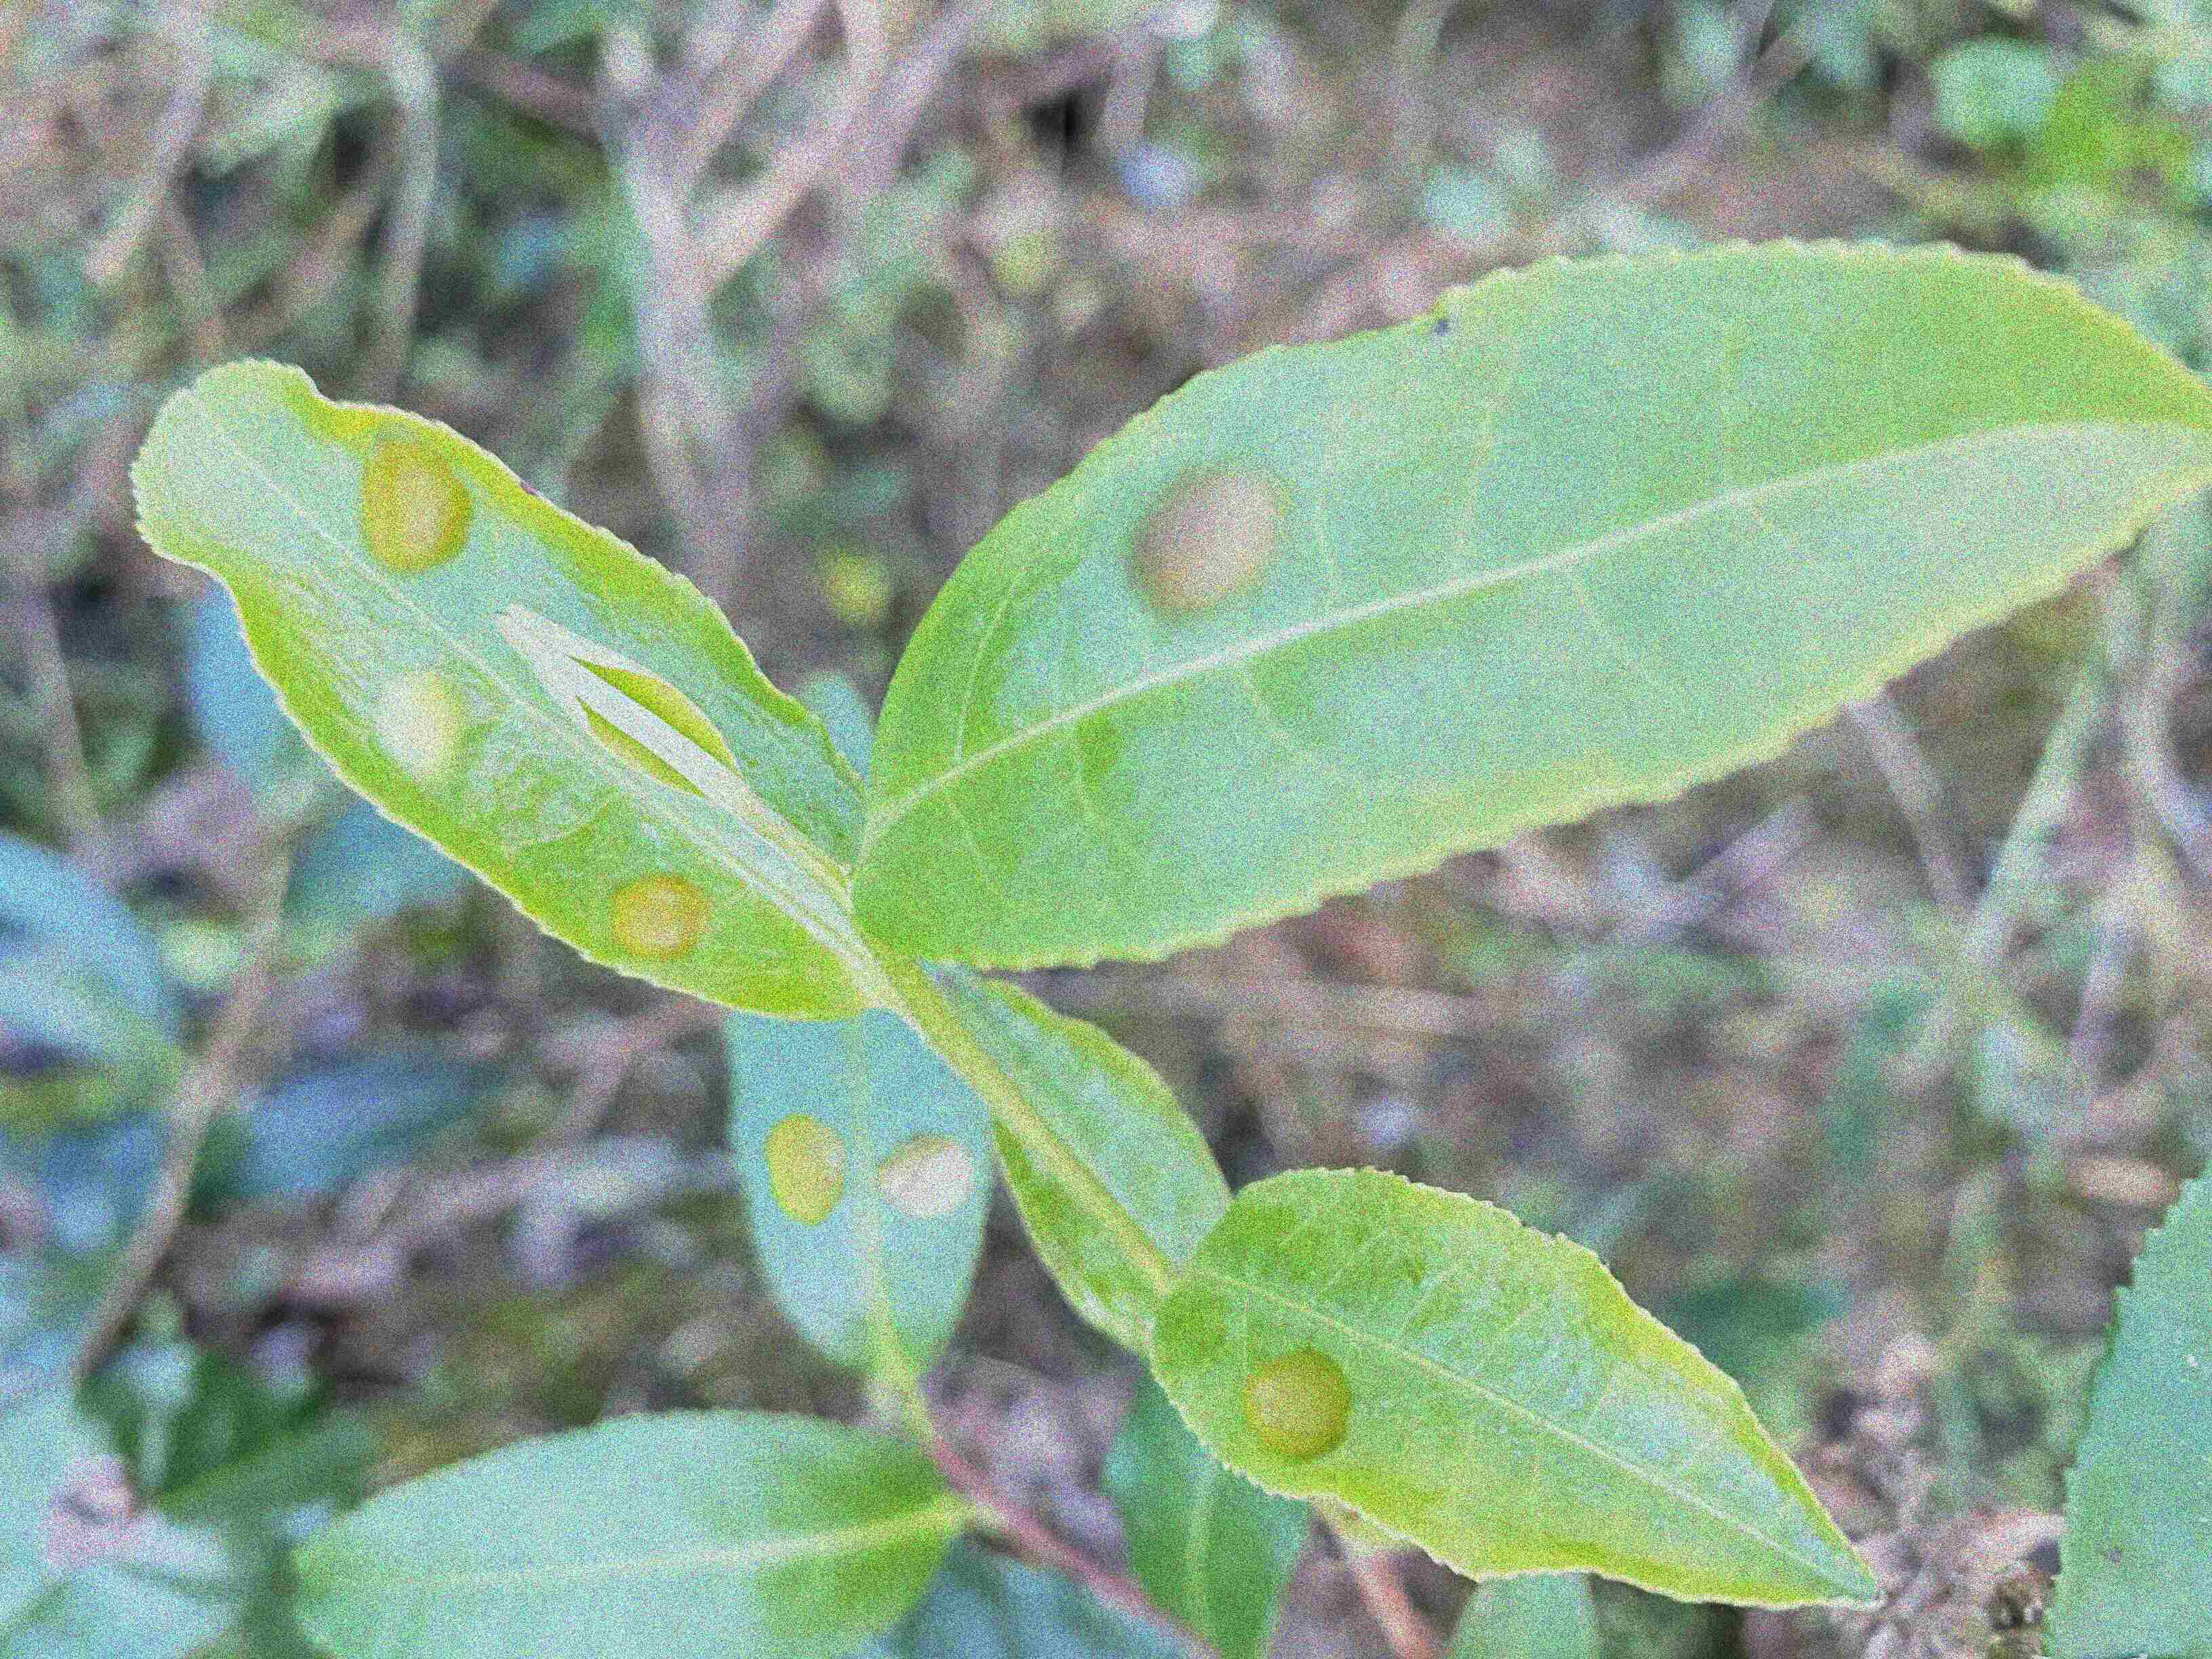chabing_high: (124, 359, 907, 1023), (726, 1023, 989, 1380)
chabing_low: (850, 234, 2212, 974), (1148, 1164, 1890, 1614)
